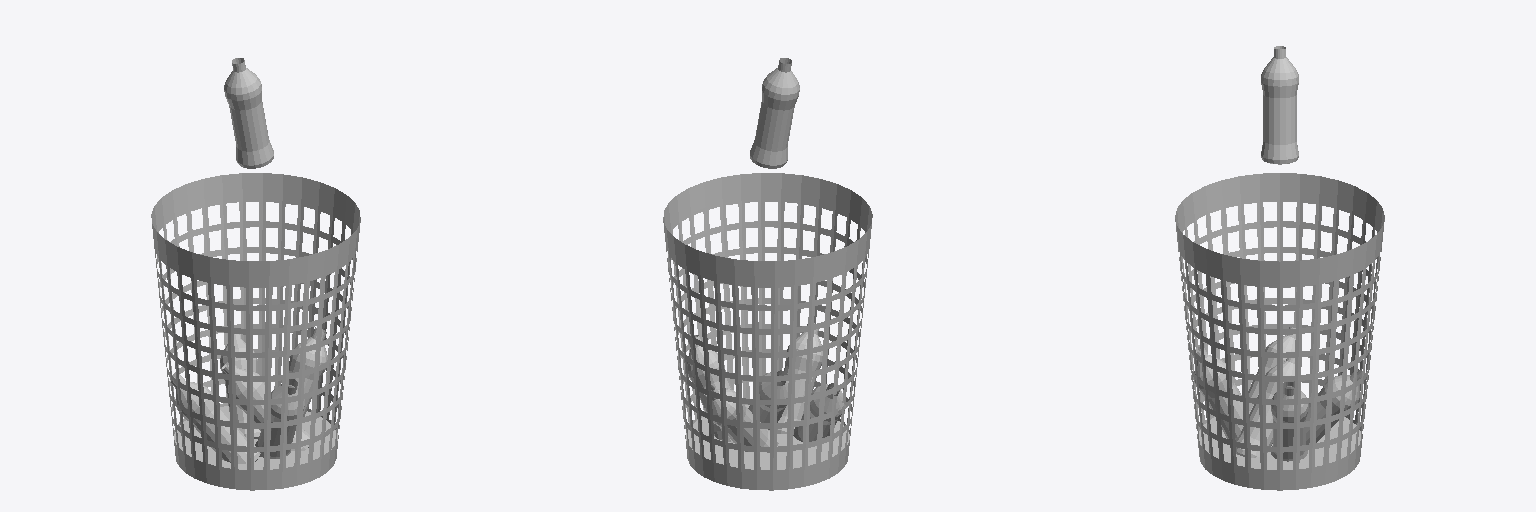
File: DustbinWithCan_000015.obj
3 views of the same model, side by side, from view 1: azimuth 30°, elevation 25°; view 2: azimuth 150°, elevation 25°; view 3: azimuth 270°, elevation 25° (orthographic).
Visible parts, largest first — view 1: Cylinder, Plane.006, Plane.005, Plane.001, Plane.004, Plane.003, Plane.002; view 2: Cylinder, Plane.006, Plane.001, Plane.002, Plane.005, Plane.003, Plane.004; view 3: Cylinder, Plane.006, Plane.001, Plane.003, Plane.004, Plane.002, Plane.005.
Part boxes in pixels (left/top/right/bottom): Cylinder: left=151, top=173, right=360, bottom=490; Plane.006: left=224, top=58, right=273, bottom=168; Plane.005: left=170, top=373, right=260, bottom=463; Plane.001: left=255, top=379, right=304, bottom=458; Plane.004: left=222, top=362, right=309, bottom=450; Plane.003: left=281, top=327, right=327, bottom=416; Plane.002: left=220, top=334, right=260, bottom=438; Cylinder: left=663, top=173, right=872, bottom=490; Plane.006: left=750, top=58, right=799, bottom=168; Plane.001: left=777, top=323, right=822, bottom=433; Plane.002: left=704, top=385, right=778, bottom=451; Plane.005: left=793, top=383, right=845, bottom=441; Plane.003: left=687, top=335, right=733, bottom=442; Plane.004: left=748, top=370, right=788, bottom=429; Cylinder: left=1175, top=173, right=1384, bottom=490; Plane.006: left=1261, top=46, right=1298, bottom=164; Plane.001: left=1194, top=347, right=1249, bottom=439; Plane.003: left=1271, top=381, right=1308, bottom=461; Plane.004: left=1236, top=358, right=1294, bottom=457; Plane.002: left=1306, top=369, right=1364, bottom=444; Plane.005: left=1248, top=327, right=1295, bottom=411.
Bounding box in the file's own units: 2.6 × 5.49 × 2.6.